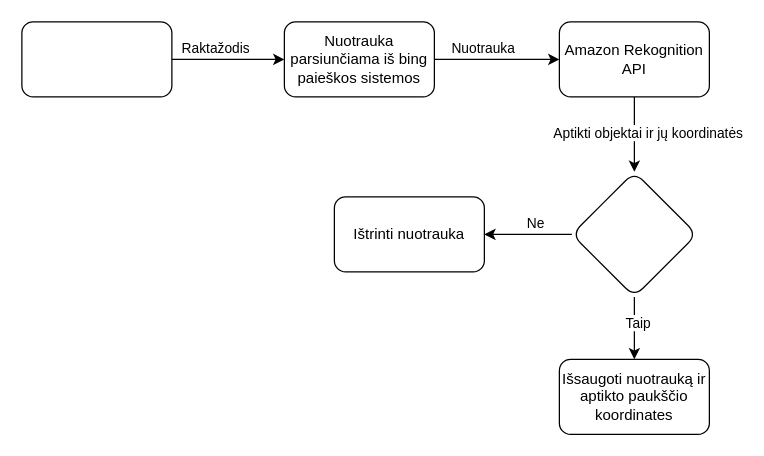
This 764x456 diagram has some shape labels left out. Here are the shapes that lost their labels. From the top down, the box of each, then its label:
(21, 21, 172, 97): Pateikiamas raktažodis į pakoreguotą BBID
(571, 171, 697, 297): Ar yra aptiktas paukštis?
